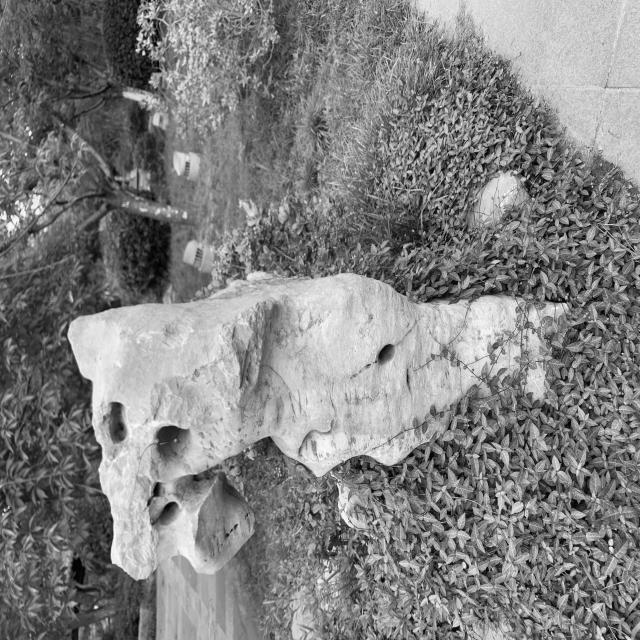Stone: (69, 272, 566, 640)
